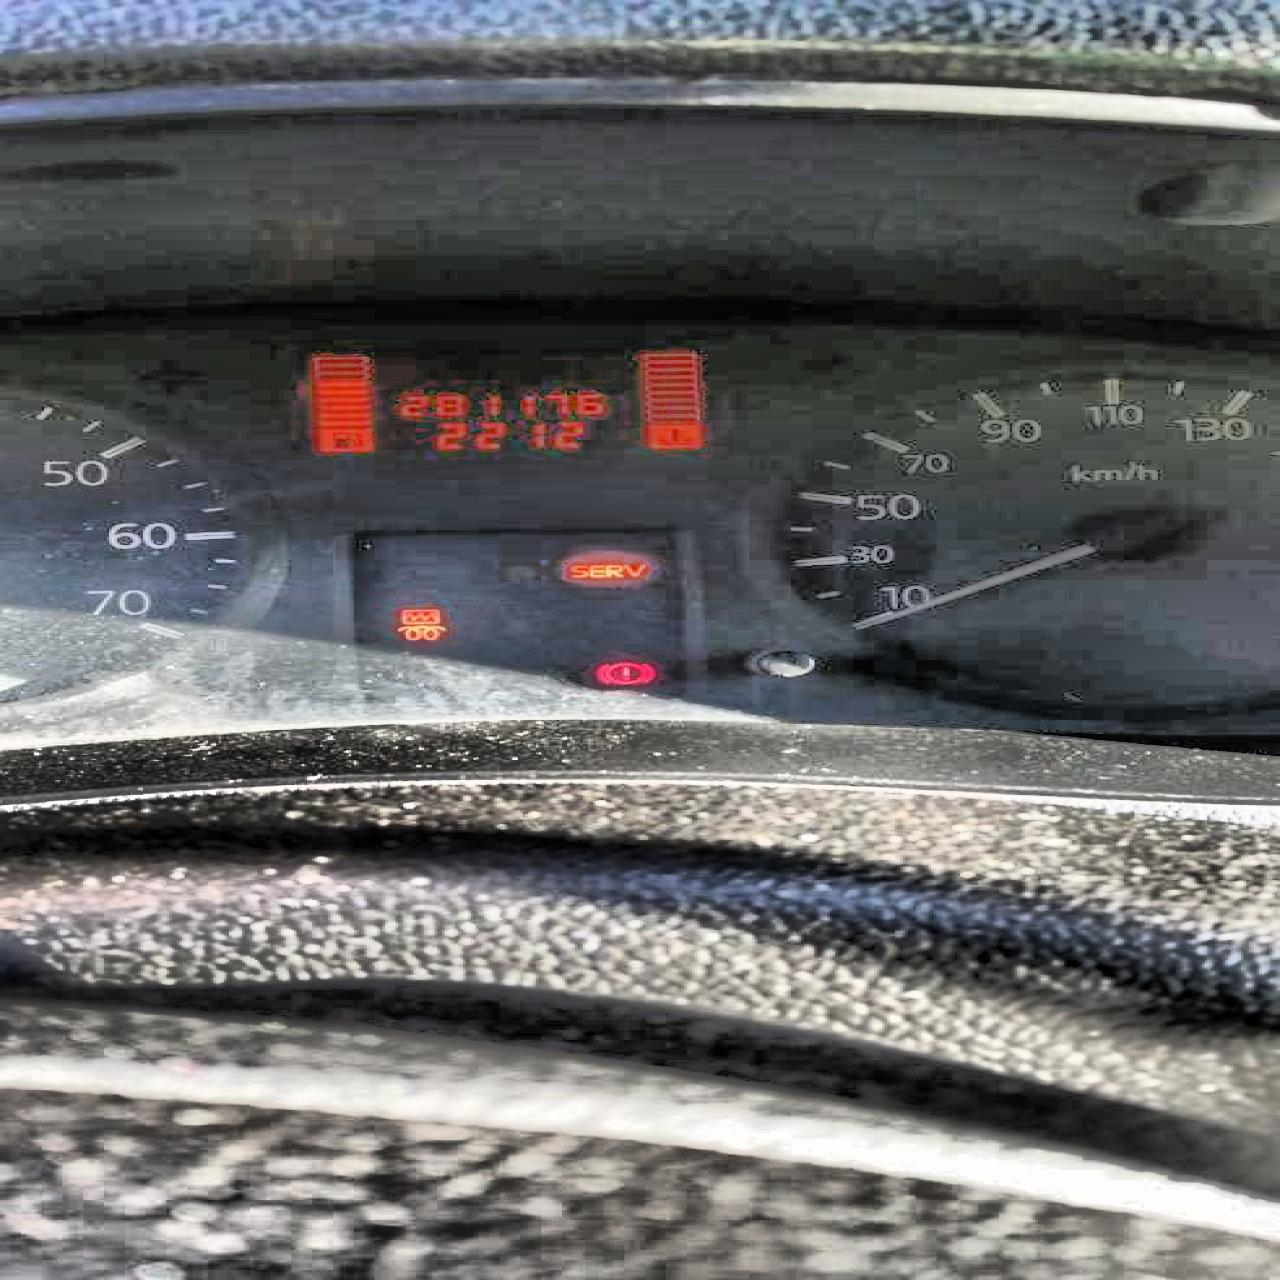1: (525, 422, 549, 448), (516, 394, 539, 416), (478, 394, 502, 414)
2: (468, 420, 505, 450), (429, 420, 465, 449), (549, 420, 583, 449), (395, 394, 429, 416)
6: (572, 393, 604, 415)
7: (544, 393, 570, 415)
8: (429, 394, 463, 416)
odometer: (271, 339, 749, 463)
